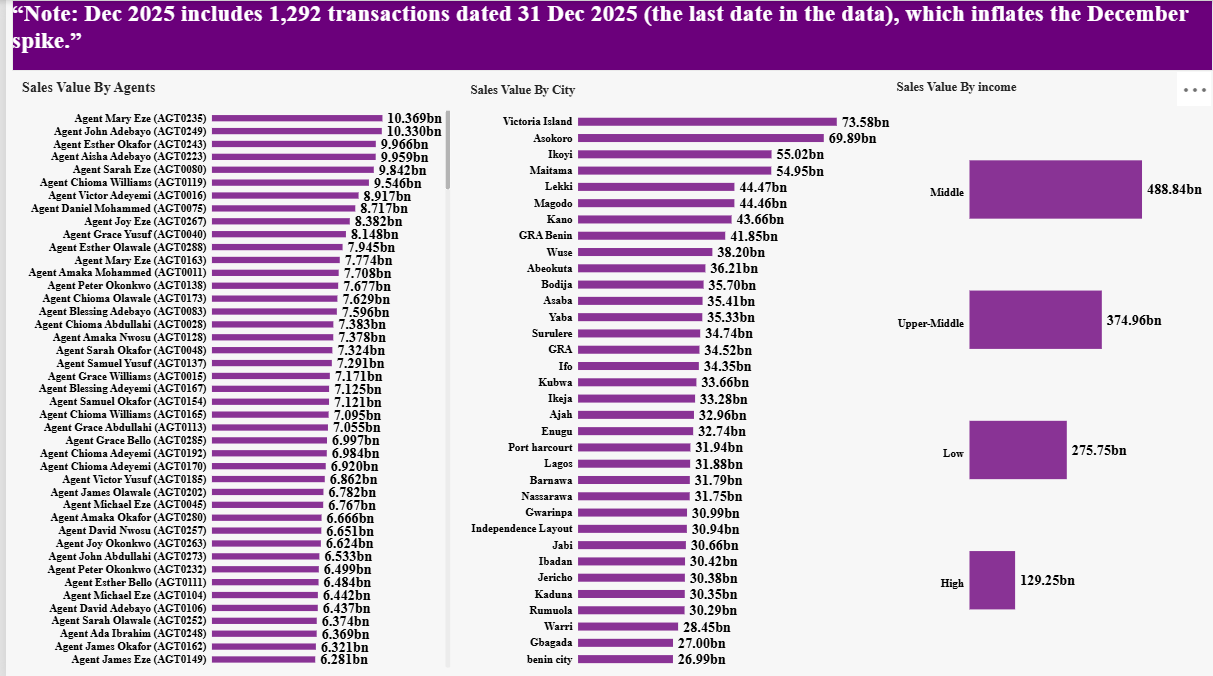

Layout of this report page (visuals, bound fields, positions):
{"tool":"powerbi","page":{"name":"Agents, City and Income","canvas":[1920,1080],"ordinal":1},"visuals":[{"type":"textbox","box":[9.5,0,1911.1,112.1],"z":0},{"type":"barChart","title":"Sales Value By Agents","fields":{"Category":["dim_agent.Agent label"],"Y":["fact_transaction.Total sale value"]},"box":[9.5,112.1,713.4,966.3],"z":1},{"type":"barChart","title":"Sales Value By City","fields":{"Category":["dim_location.city"],"Y":["fact_transaction.Total sale value"]},"box":[723.3,115.7,699.2,964.4],"z":2},{"type":"barChart","title":"Sales Value By income","fields":{"Category":["dim_customer.income_segment"],"Y":["fact_transaction.Total sale value"]},"box":[1400.8,113.3,518.4,966.8],"z":3}]}

Visuals, with their boxes in screenshot pixels (x1, y1, x2, y2), scaled from the page's 1920x1080 canvas onto the 1213x676 screenshot:
textbox: <bbox>6, 0, 1212, 70</bbox>
"Sales Value By Agents" barChart: <bbox>6, 70, 457, 675</bbox>
"Sales Value By City" barChart: <bbox>457, 72, 899, 675</bbox>
"Sales Value By income" barChart: <bbox>885, 71, 1212, 675</bbox>
